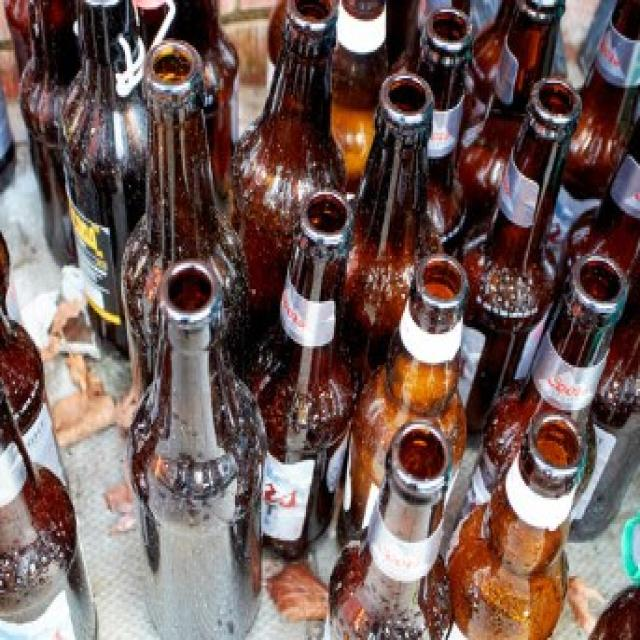electronic: (122, 41, 628, 640)
